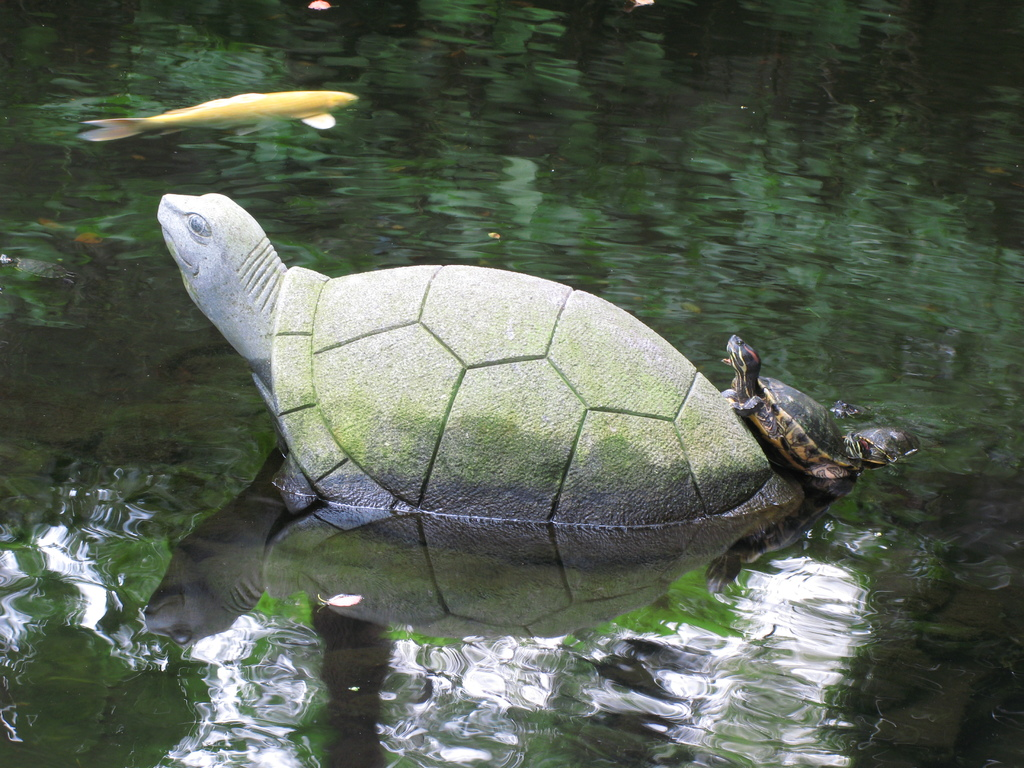Sea turtles: (158, 192, 797, 531), (714, 327, 856, 483), (828, 394, 916, 467)
